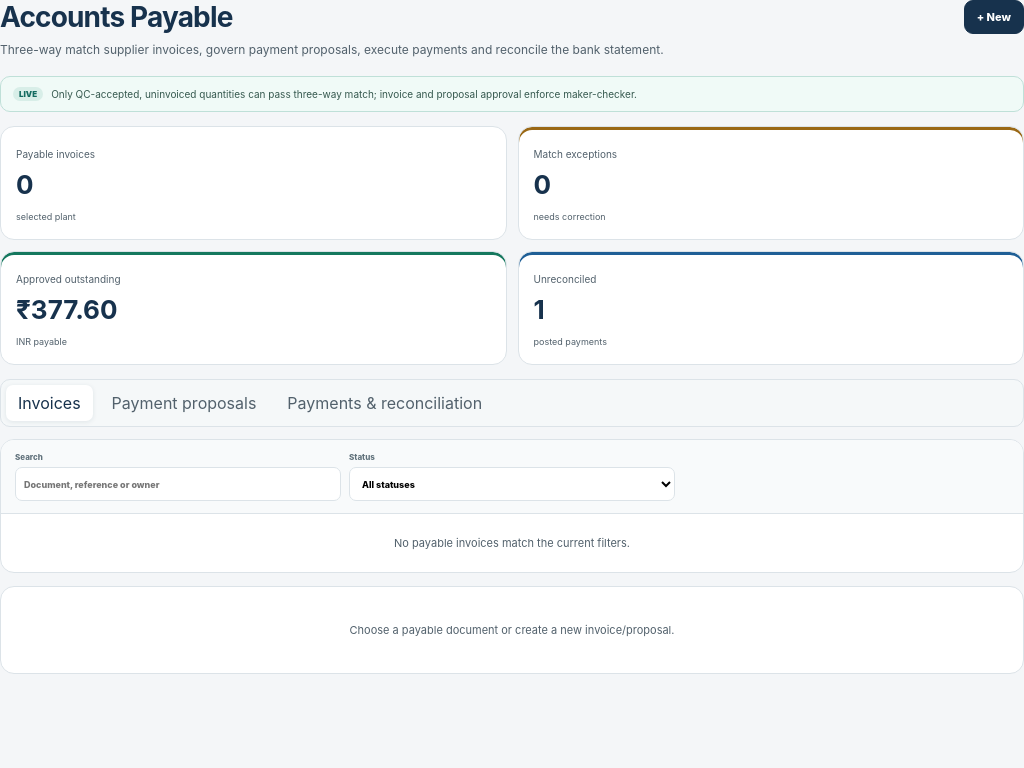
Test case: accounts payable workspace › creates a governed payment proposal from an approved outstanding invoice
Click the button "Payment proposals" at (184, 403), box [100,385,268,421]
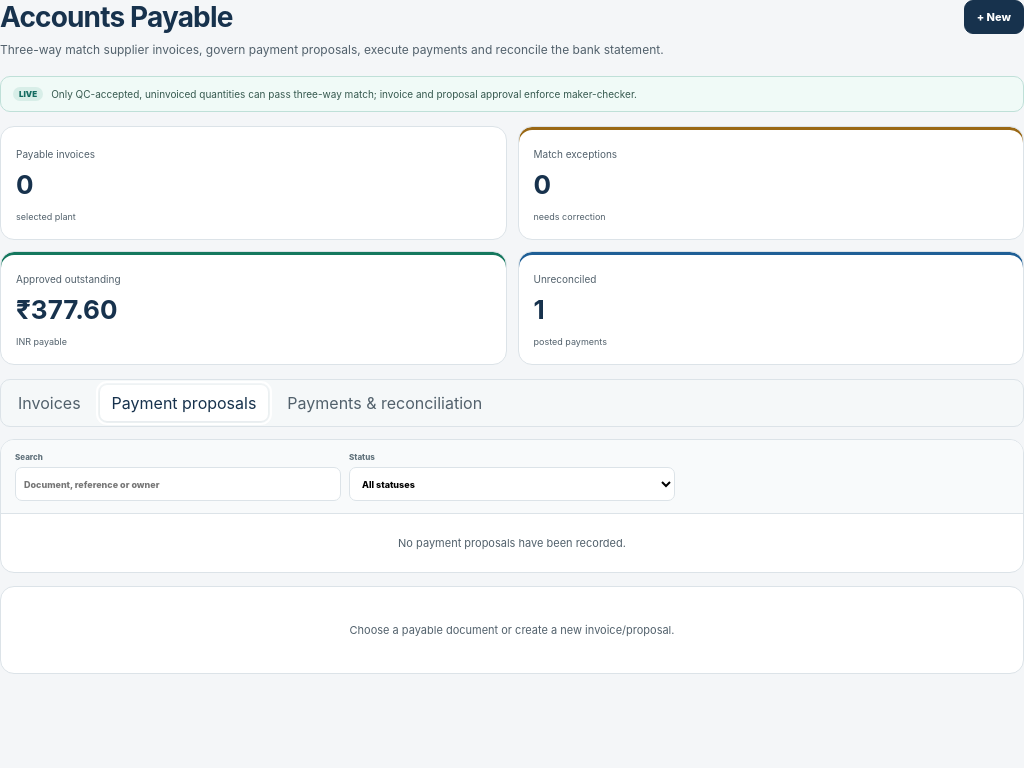
Click the button "+ New" at (994, 17), box [964,0,1023,34]
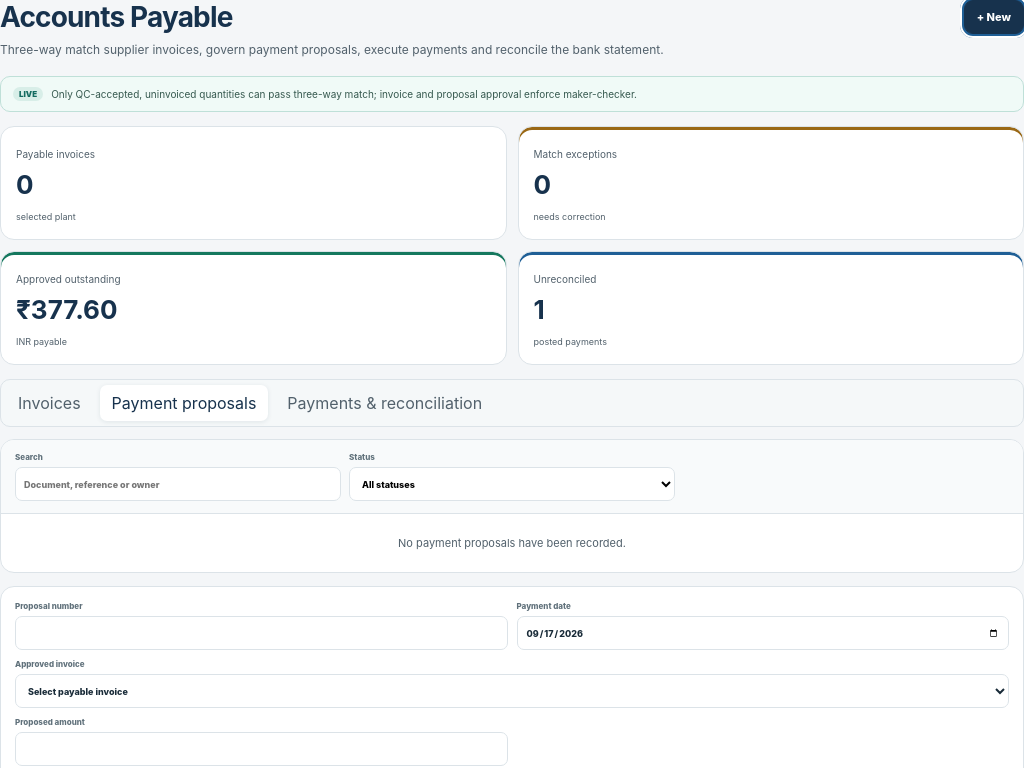
Select "AP-UI-001 · Western Ingredients · ₹377.60" in the dropdown labelled "Approved invoice" at (512, 691), box [15,674,1009,708]
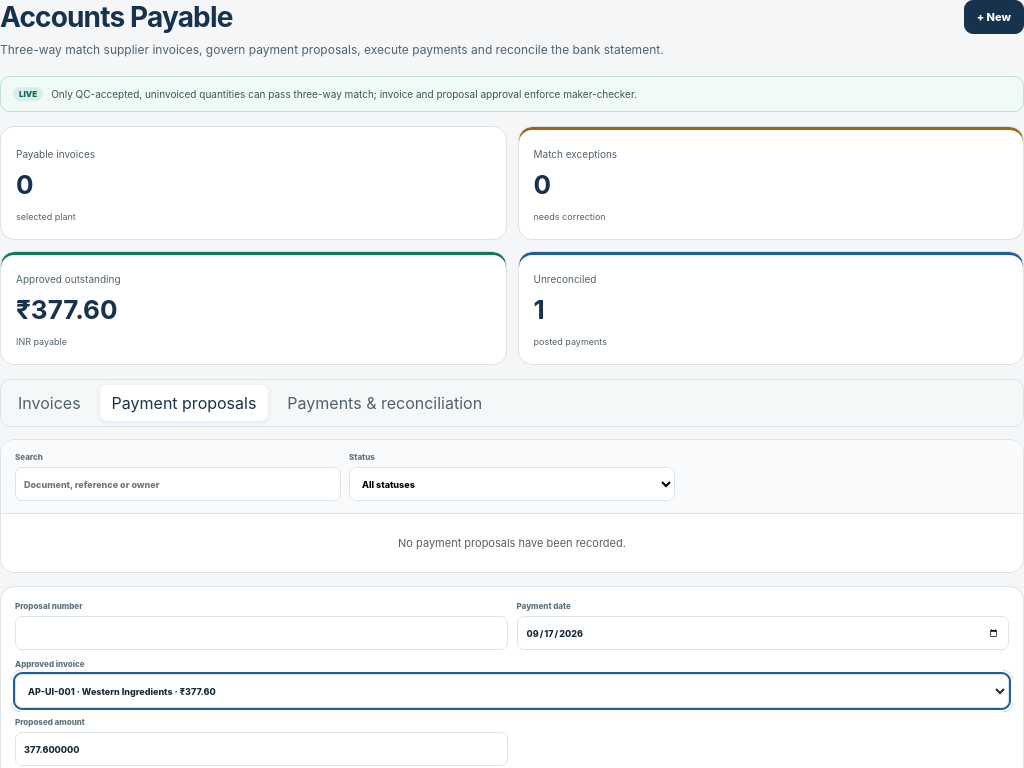
Type "payprop-ui-001" into the field labelled "Proposal number" at (261, 633), box [15,616,508,650]
(page scrolled)
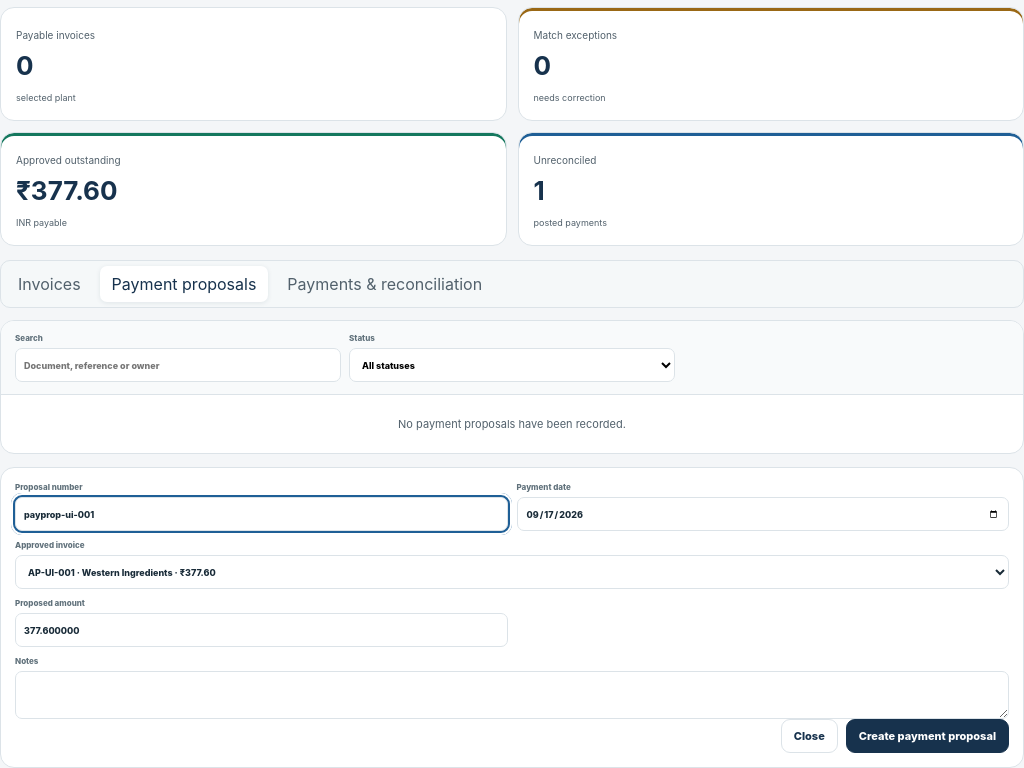
Type "Include in the next controlled payment run." into the text box labelled "Notes" at (512, 695), box [15,671,1009,719]
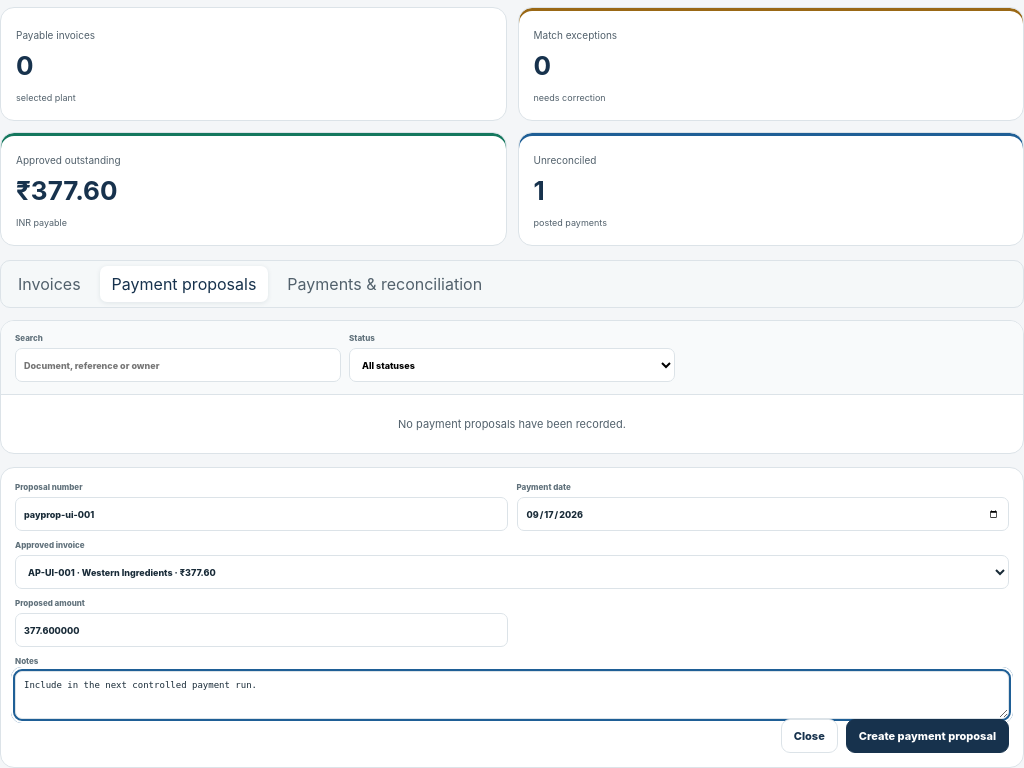
Click the button "Create payment proposal" at (927, 736), box [846,719,1009,753]
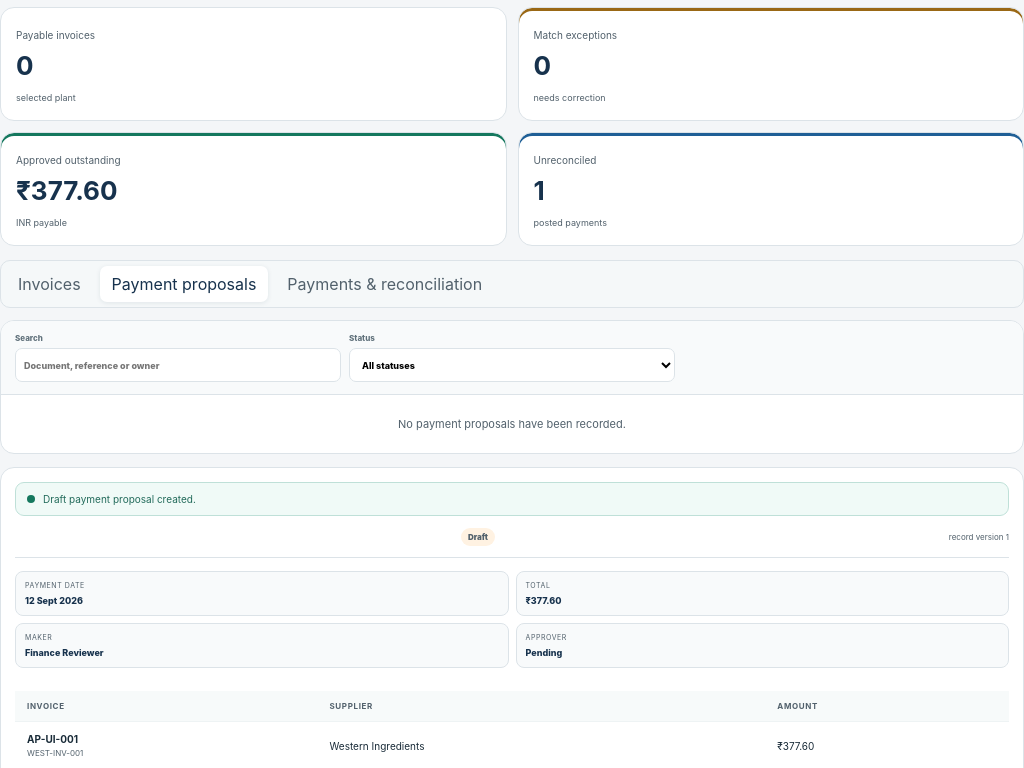
expect the text "Draft payment proposal created." is shown: met, box [15,482,1009,516]
